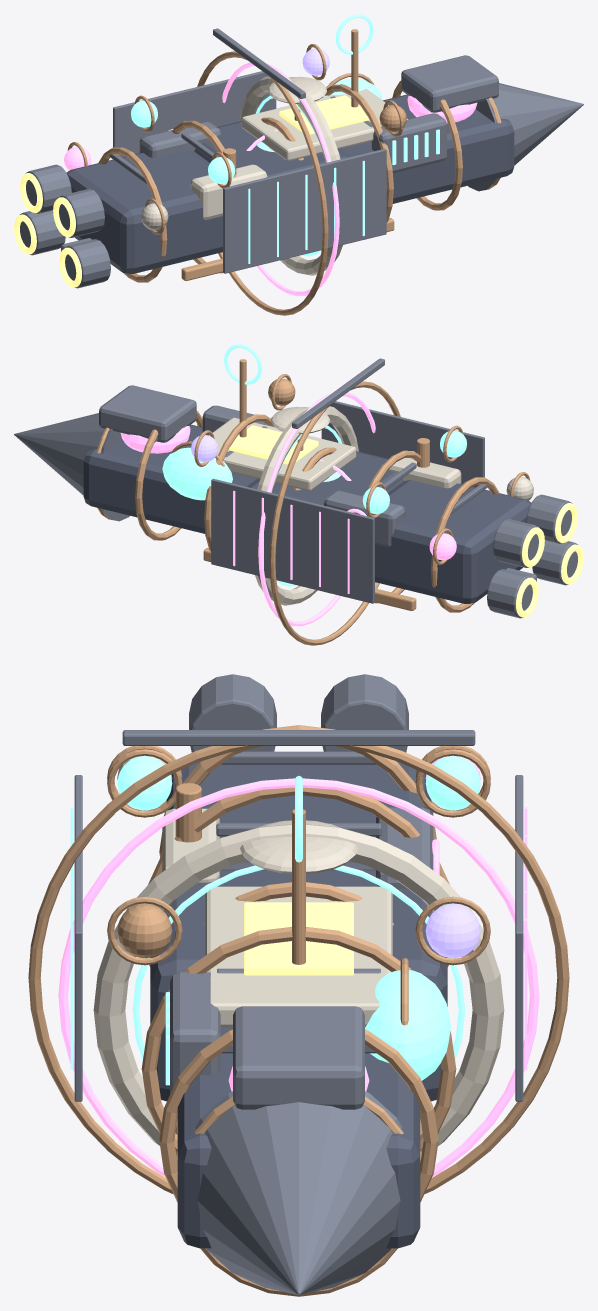
File: leviathan.glb
The picture shows the model from 3 angles, top to bottom: view 1: azimuth 30°, elevation 25°; view 2: azimuth 150°, elevation 25°; view 3: azimuth 270°, elevation 25°; orthographic projection. The views are drawn at different scales.
Parts seen in each view (by area): view 1: MOC_25_SailPort.001, MOC_04_HullAft.001, MOC_02_HullFore.001, MOC_26_SailStarboard.001, MOC_15_CommonsDeck.001, MOC_05_ArkBow.001, MOC_22_Bridge.001, MOC_30_CommissionFrame.001, MOC_16_Archive.001, MOC_21_HabitatRing.001, MOC_03_HullMid.001, MOC_13_HearthEngine3.001 (+22 smaller); view 2: MOC_26_SailStarboard.001, MOC_04_HullAft.001, MOC_02_HullFore.001, MOC_25_SailPort.001, MOC_15_CommonsDeck.001, MOC_05_ArkBow.001, MOC_22_Bridge.001, MOC_30_CommissionFrame.001, MOC_21_HabitatRing.001, MOC_03_HullMid.001, MOC_17_Garden.001, MOC_14_HearthEngine4.001 (+22 smaller); view 3: MOC_05_ArkBow.001, MOC_21_HabitatRing.001, MOC_30_CommissionFrame.001, MOC_15_CommonsDeck.001, MOC_22_Bridge.001, MOC_02_HullFore.001, MOC_28_MemoryHalo.001, MOC_03_HullMid.001, MOC_04_HullAft.001, MOC_09_Rib+8.001, MOC_17_Garden.001, MOC_10_Rib+16.001 (+16 smaller).
Part boxes in pixels (x1=…): MOC_25_SailPort.001: x1=223, y1=148, x2=386, y2=273; MOC_04_HullAft.001: x1=66, y1=150, x2=222, y2=273; MOC_02_HullFore.001: x1=341, y1=94, x2=514, y2=203; MOC_26_SailStarboard.001: x1=113, y1=71, x2=276, y2=157; MOC_15_CommonsDeck.001: x1=241, y1=89, x2=408, y2=160; MOC_05_ArkBow.001: x1=468, y1=83, x2=583, y2=191; MOC_22_Bridge.001: x1=401, y1=55, x2=498, y2=112; MOC_30_CommissionFrame.001: x1=197, y1=28, x2=328, y2=315; MOC_16_Archive.001: x1=371, y1=113, x2=446, y2=173; MOC_21_HabitatRing.001: x1=239, y1=76, x2=342, y2=275; MOC_03_HullMid.001: x1=194, y1=121, x2=351, y2=177; MOC_13_HearthEngine3.001: x1=53, y1=188, x2=104, y2=237; MOC_26_SailStarboard.001: x1=211, y1=478, x2=374, y2=603; MOC_04_HullAft.001: x1=375, y1=480, x2=531, y2=603; MOC_02_HullFore.001: x1=83, y1=424, x2=256, y2=533; MOC_25_SailPort.001: x1=321, y1=401, x2=484, y2=487; MOC_15_CommonsDeck.001: x1=209, y1=417, x2=356, y2=490; MOC_05_ArkBow.001: x1=14, y1=413, x2=129, y2=521; MOC_22_Bridge.001: x1=99, y1=385, x2=196, y2=442; MOC_30_CommissionFrame.001: x1=269, y1=358, x2=400, y2=645; MOC_21_HabitatRing.001: x1=255, y1=406, x2=358, y2=605; MOC_03_HullMid.001: x1=246, y1=451, x2=403, y2=505; MOC_17_Garden.001: x1=162, y1=441, x2=232, y2=500; MOC_14_HearthEngine4.001: x1=493, y1=518, x2=544, y2=567; MOC_05_ArkBow.001: x1=194, y1=1091, x2=403, y2=1296; MOC_21_HabitatRing.001: x1=93, y1=824, x2=504, y2=1145; MOC_30_CommissionFrame.001: x1=28, y1=730, x2=569, y2=1194; MOC_15_CommonsDeck.001: x1=205, y1=886, x2=392, y2=1027; MOC_22_Bridge.001: x1=233, y1=1006, x2=364, y2=1109; MOC_02_HullFore.001: x1=177, y1=1027, x2=420, y2=1248; MOC_28_MemoryHalo.001: x1=58, y1=778, x2=539, y2=1176; MOC_03_HullMid.001: x1=150, y1=869, x2=447, y2=1101; MOC_04_HullAft.001: x1=166, y1=761, x2=431, y2=869; MOC_09_Rib+8.001: x1=141, y1=927, x2=456, y2=1151; MOC_17_Garden.001: x1=365, y1=957, x2=450, y2=1080; MOC_10_Rib+16.001: x1=159, y1=1029, x2=438, y2=1202.
Size of the model in its own units: 56.42 by 26.86 by 24.56.
